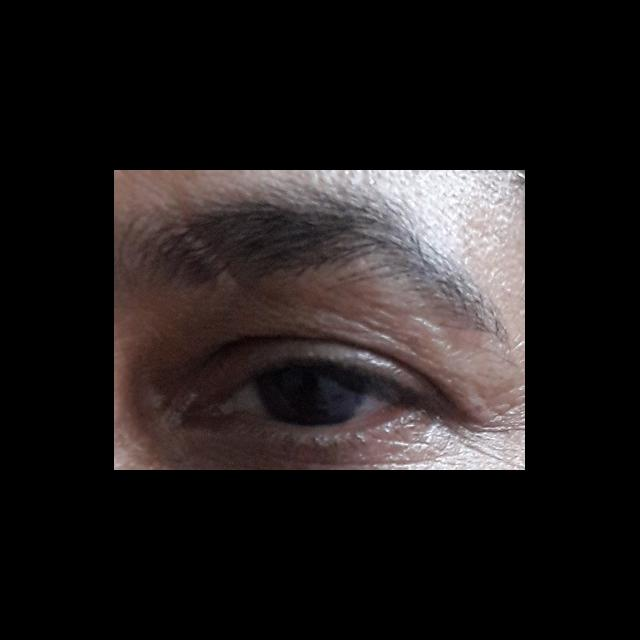eye: (217, 363, 404, 427)
iris: (256, 367, 371, 425)
